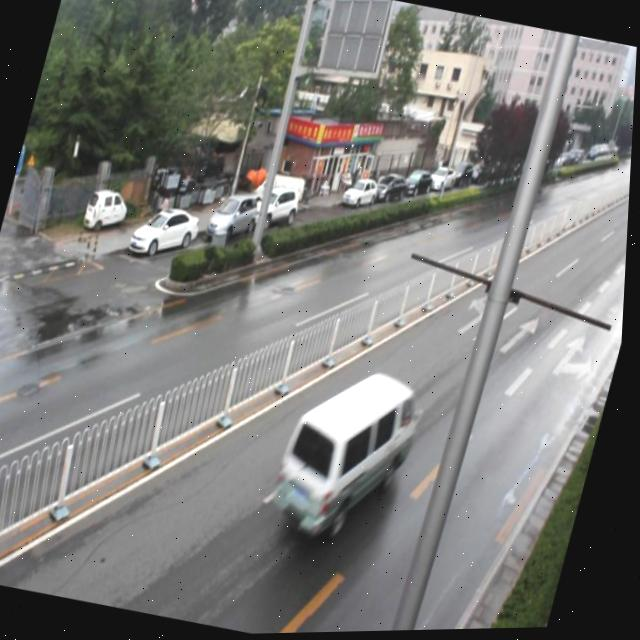truck: (268, 359, 434, 558)
